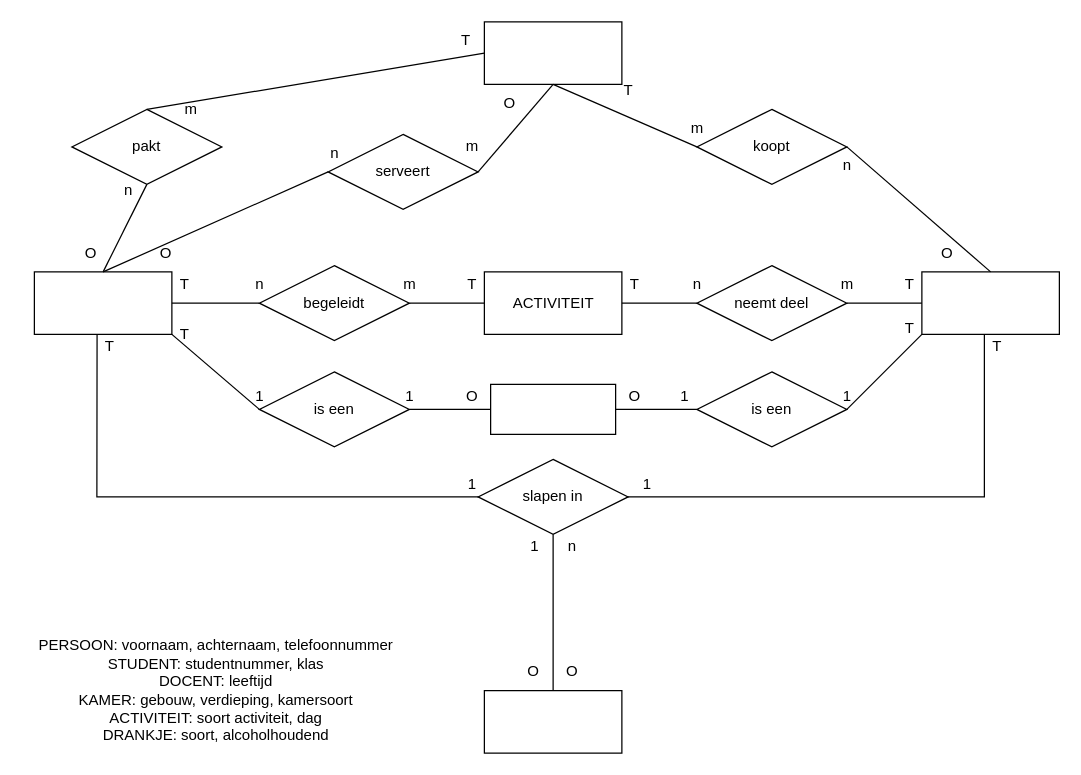
The diagram is 1081 pixels wide and 775 high, and some of its shapes have lost their labels. Here are the shapes that lost their labels. From the top down, the centre of each, then its label:
At [552,52]: "DRANKJE".
At [102,302]: "DOCENT".
At [990,302]: "STUDENT".
At [552,408]: "PERSOON".
At [552,721]: "KAMER".
